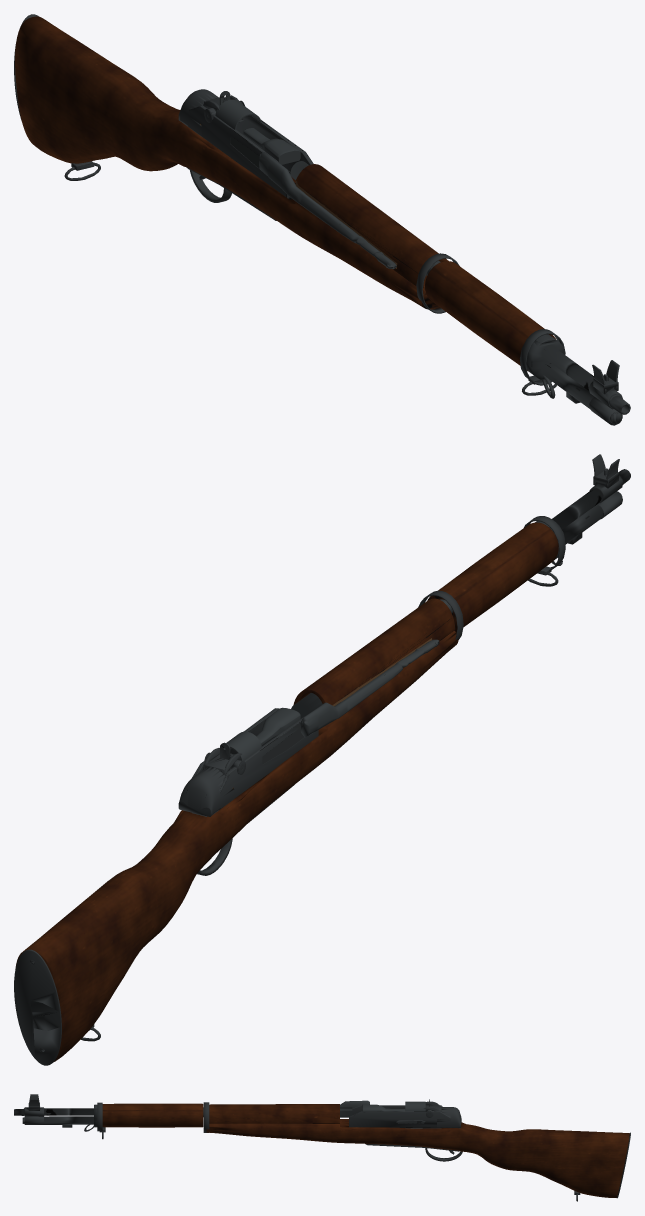
Rendered from SM_WP_M1Garand.fbx.
3 views of the same model, one above another, from view 1: azimuth 30°, elevation 25°; view 2: azimuth 150°, elevation 25°; view 3: azimuth 270°, elevation 25° (orthographic). The views are drawn at different scales.
Visible parts, largest first — view 1: Body, Bolt; view 2: Body, Bolt; view 3: Body, Bolt.
Part boxes in pixels (bbox=[...]): Body: bbox=[14, 14, 630, 425]; Bolt: bbox=[243, 128, 396, 269]; Body: bbox=[14, 454, 630, 1065]; Bolt: bbox=[256, 639, 439, 745]; Body: bbox=[14, 1094, 630, 1201]; Bolt: bbox=[340, 1100, 405, 1111].
Bounding box in the file's own units: 0.0529 × 0.2019 × 1.1.
